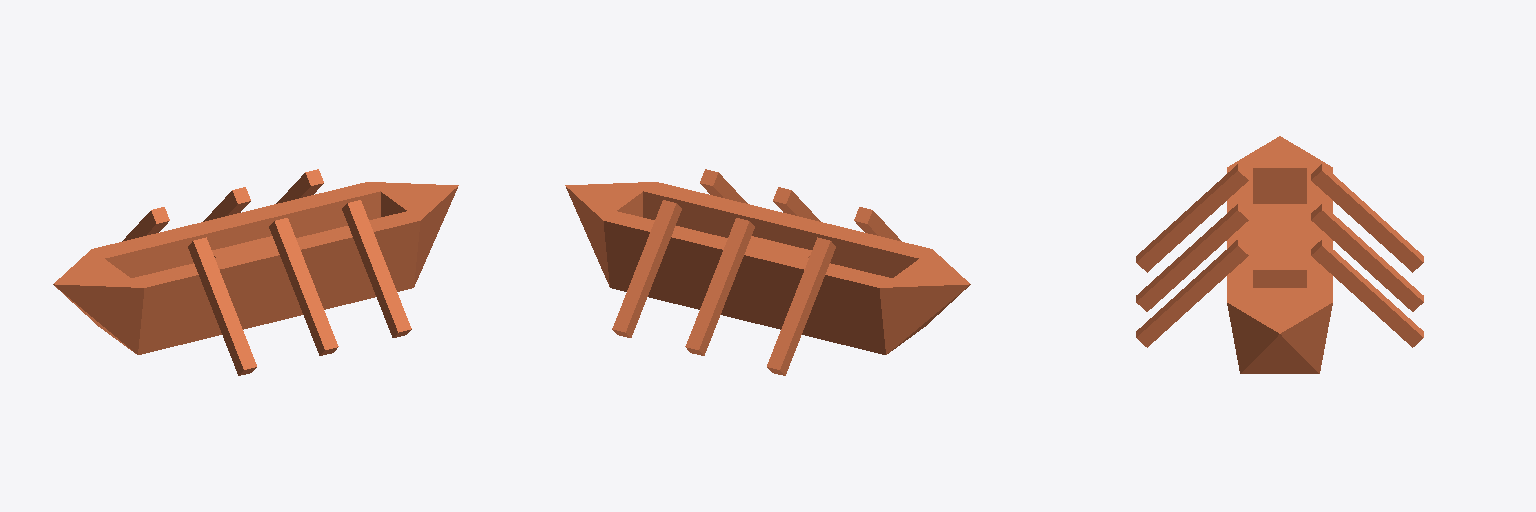
File: unit_boat.obj
3 views of the same model, side by side, from view 1: azimuth 30°, elevation 25°; view 2: azimuth 150°, elevation 25°; view 3: azimuth 270°, elevation 25° (orthographic).
Visible parts, largest first — view 1: unit_boat, Group; view 2: unit_boat, Group; view 3: unit_boat, Group.
Part boxes in pixels (x1,y1,x2,y2): unit_boat: (53, 182, 458, 354); Group: (122, 169, 411, 375); unit_boat: (565, 182, 970, 354); Group: (612, 169, 901, 375); unit_boat: (1227, 136, 1332, 373); Group: (1136, 164, 1423, 347).
Bounding box in the file's own units: 0.645 × 0.1553 × 0.3959.